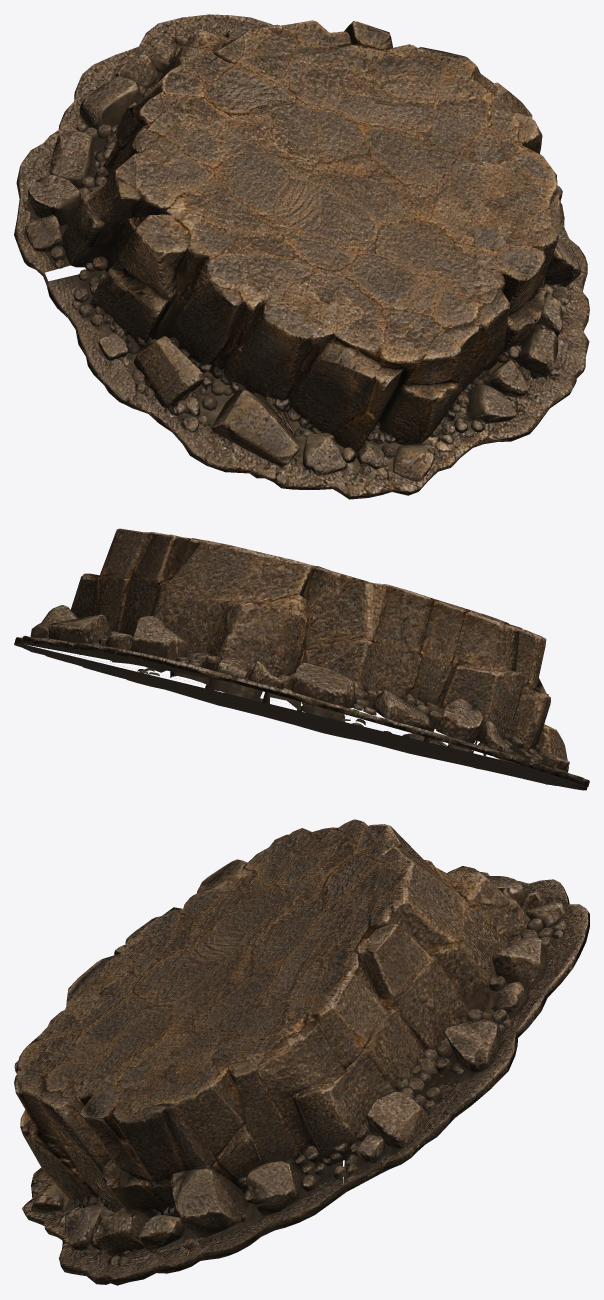
The model's file is 03-amber-palimpsest-base.glb.
3 views of the same model, one above another, from view 1: azimuth 30°, elevation 25°; view 2: azimuth 150°, elevation 25°; view 3: azimuth 270°, elevation 25° (orthographic). The views are drawn at different scales.
Parts seen in each view (by area): view 1: cd01dc15_2808_4ed2_b4f8_35af9306795b; view 2: cd01dc15_2808_4ed2_b4f8_35af9306795b; view 3: cd01dc15_2808_4ed2_b4f8_35af9306795b.
Boxes of the visible parts, box(x1,y1,x2,y2) form: cd01dc15_2808_4ed2_b4f8_35af9306795b: box(14, 14, 589, 499); cd01dc15_2808_4ed2_b4f8_35af9306795b: box(14, 528, 589, 790); cd01dc15_2808_4ed2_b4f8_35af9306795b: box(14, 819, 589, 1285).
Size of the model in its own units: 0.9995 by 0.6333 by 0.9106.
1 material, 1 textured.
